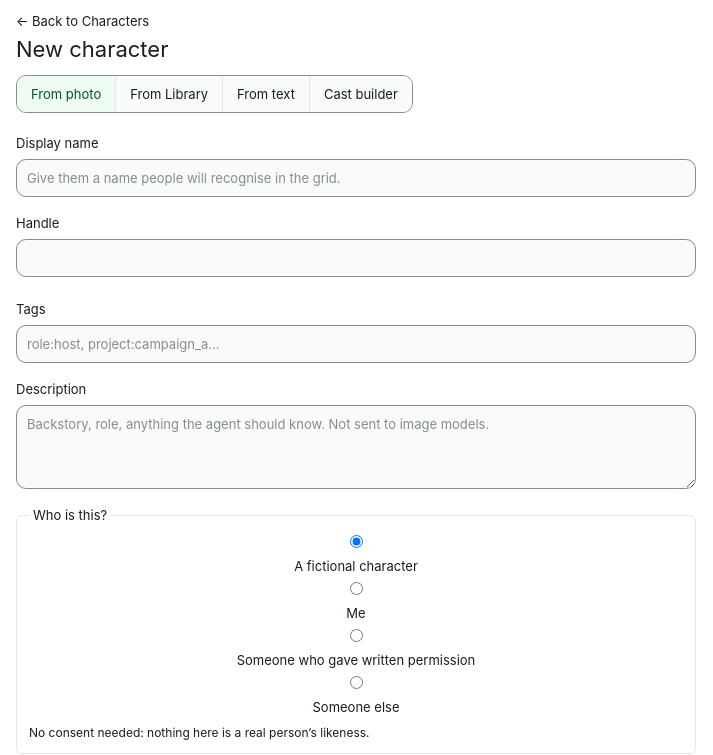
Test: who is this (F-CHR-06, UX-12) › asks once, with the four answers and a clause for the chosen one
Expected: the radio button named "who" is checked, [350,535,362,548]
Expected: the text with class "create-character-consent-note" shows "No consent needed", [29,725,370,740]
"Me" is a real person with consent recorded.
Step 1. Click the radio button named "who" → (356,588), box [350,582,362,595]
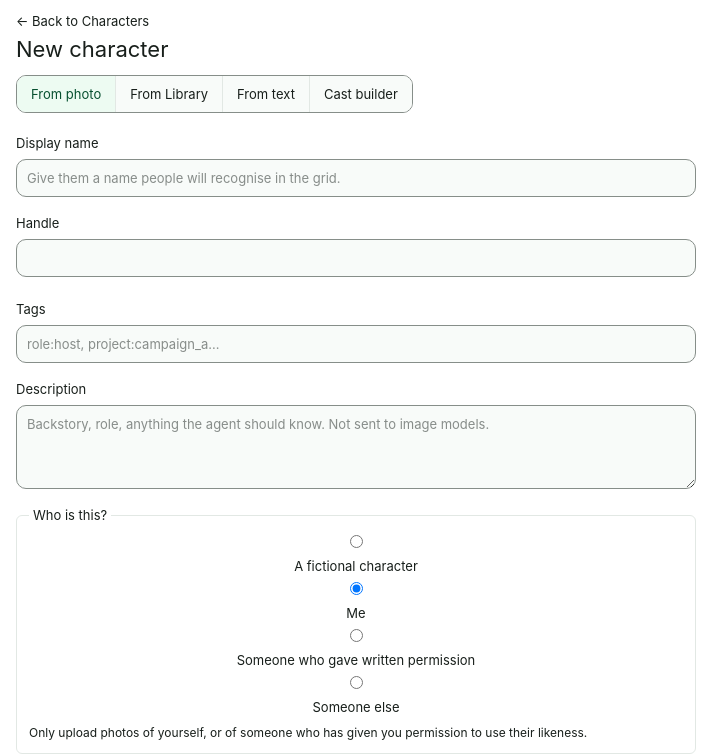
Expected: the text with class "create-character-consent-note" shows "Only upload photos of yourself", [29,725,587,740]
"Someone else" is a real person without consent, and says what that means.
Step 2. Click the radio button named "who" → (356,682), box [350,676,362,689]
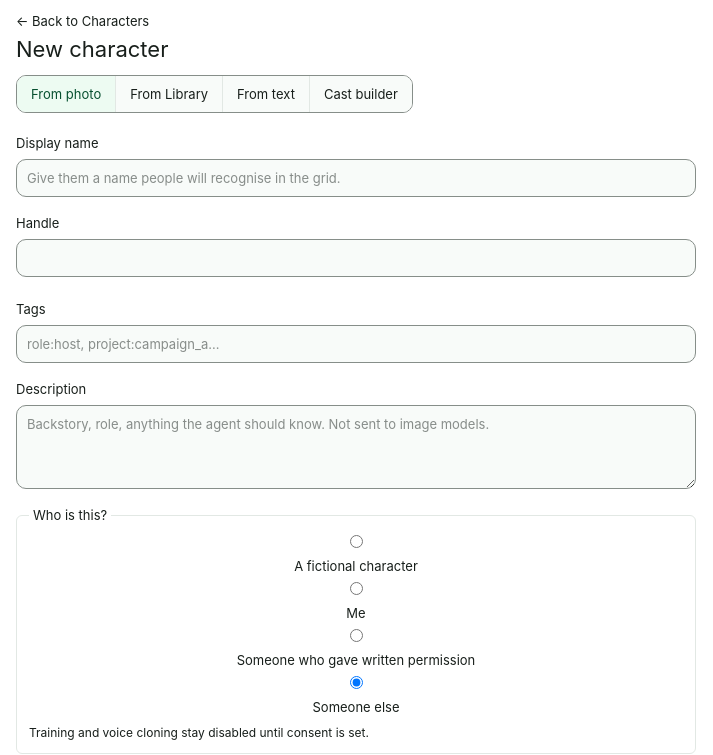
Expected: the text with class "create-character-consent-note" shows "Training and voice cloning stay disabled", [29,725,369,740]
